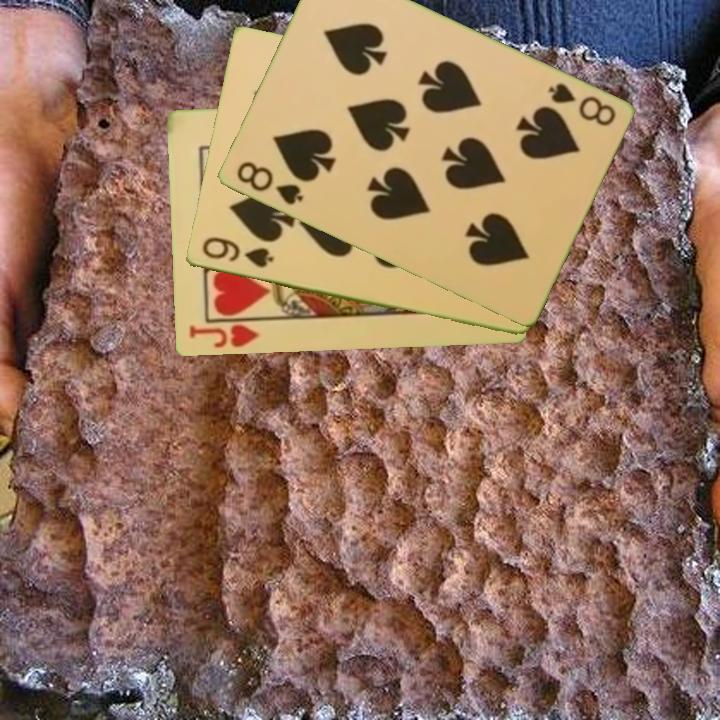8s: (232, 158, 306, 209), (544, 79, 618, 130)
9s: (198, 234, 277, 271)
Jh: (185, 321, 262, 352)
